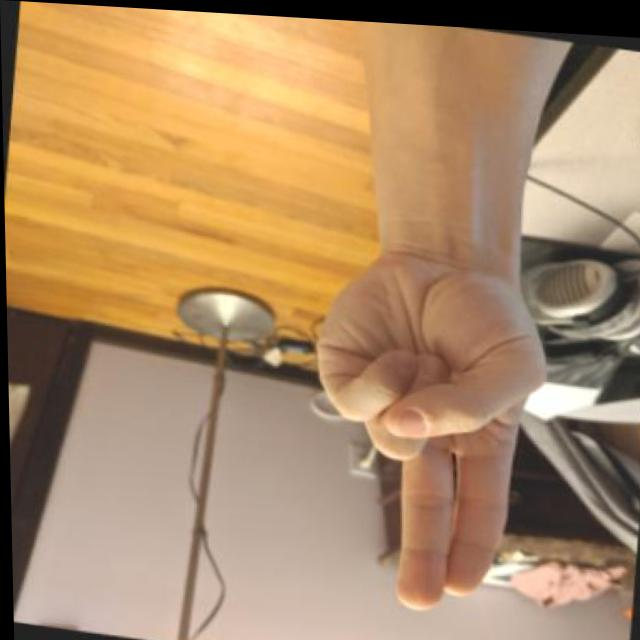U: (279, 229, 568, 630)
